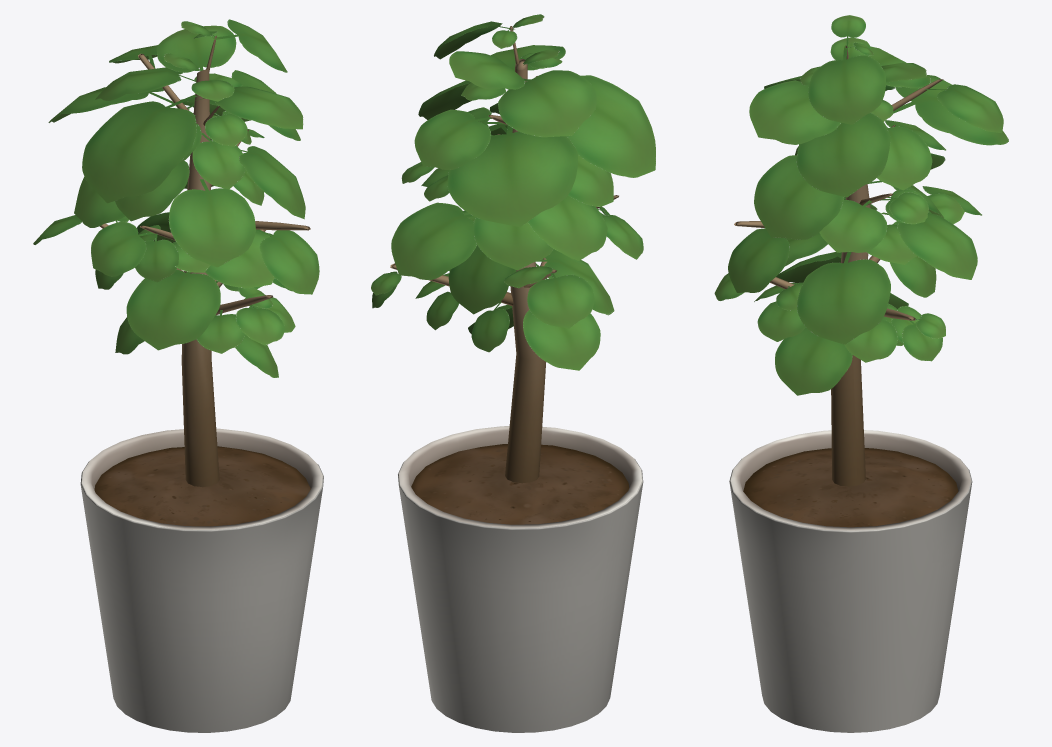
The model's file is FloorFlowerpot.fbx.
3 views of the same model, side by side, from view 1: azimuth 30°, elevation 25°; view 2: azimuth 150°, elevation 25°; view 3: azimuth 270°, elevation 25° (orthographic).
Visible parts, largest first — view 1: Flowerpot_Mesh; view 2: Flowerpot_Mesh; view 3: Flowerpot_Mesh.
Part boxes in pixels (box(x1,y1,x2,y2)): Flowerpot_Mesh: box(33, 19, 323, 732); Flowerpot_Mesh: box(371, 14, 655, 732); Flowerpot_Mesh: box(714, 15, 1008, 732).
Bounding box in the file's own units: 5.3 × 13.46 × 5.98.
2 materials, 2 textured.
